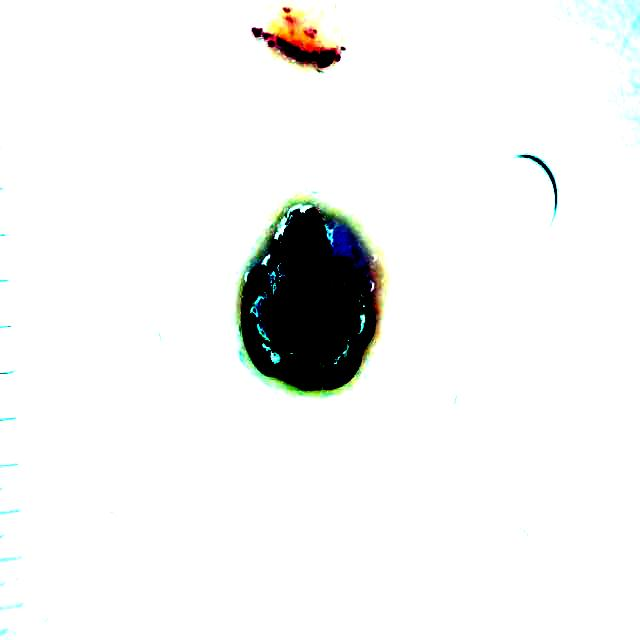VASC: (243, 206, 375, 389), (247, 0, 346, 66)
